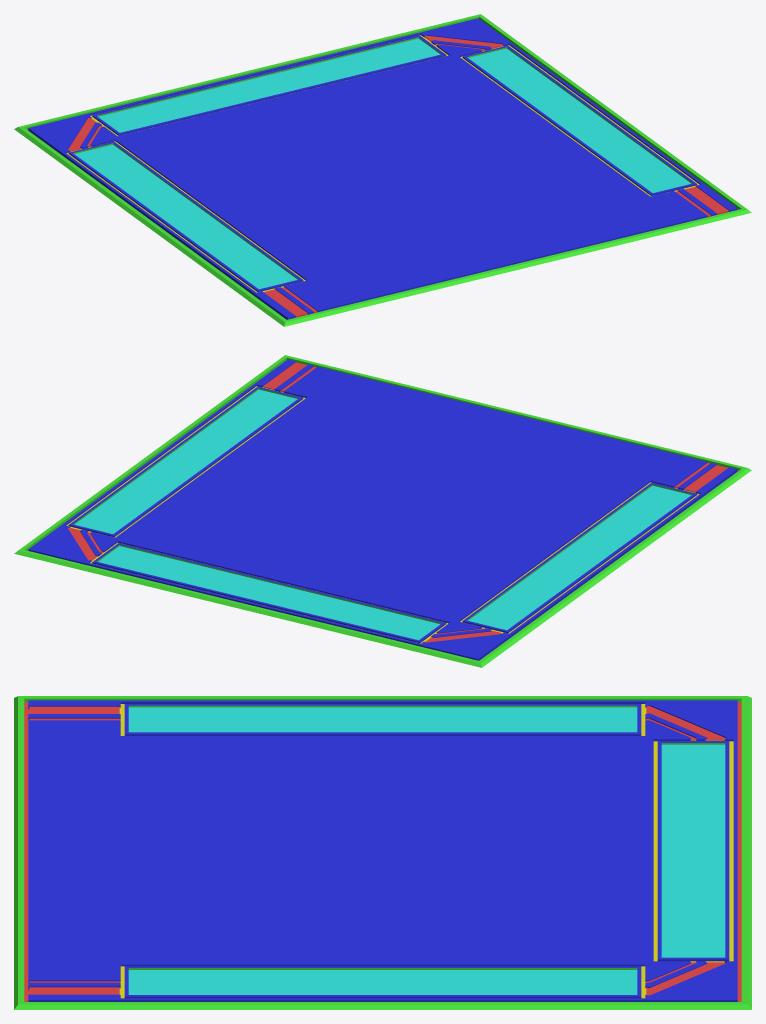
File: Floor_11_G_Side_C.fbx
3 views of the same model, one above another, from view 1: azimuth 30°, elevation 25°; view 2: azimuth 150°, elevation 25°; view 3: azimuth 270°, elevation 25° (orthographic). The views are drawn at different scales.
Visible parts, largest first — view 1: Floor_11_G_Side_C; view 2: Floor_11_G_Side_C; view 3: Floor_11_G_Side_C.
Part boxes in pixels (x1=…): Floor_11_G_Side_C: x1=14, y1=14, x2=751, y2=326; Floor_11_G_Side_C: x1=14, y1=355, x2=751, y2=667; Floor_11_G_Side_C: x1=14, y1=696, x2=751, y2=1009.
Size of the model in its own units: 457 by 2.54 by 457.
